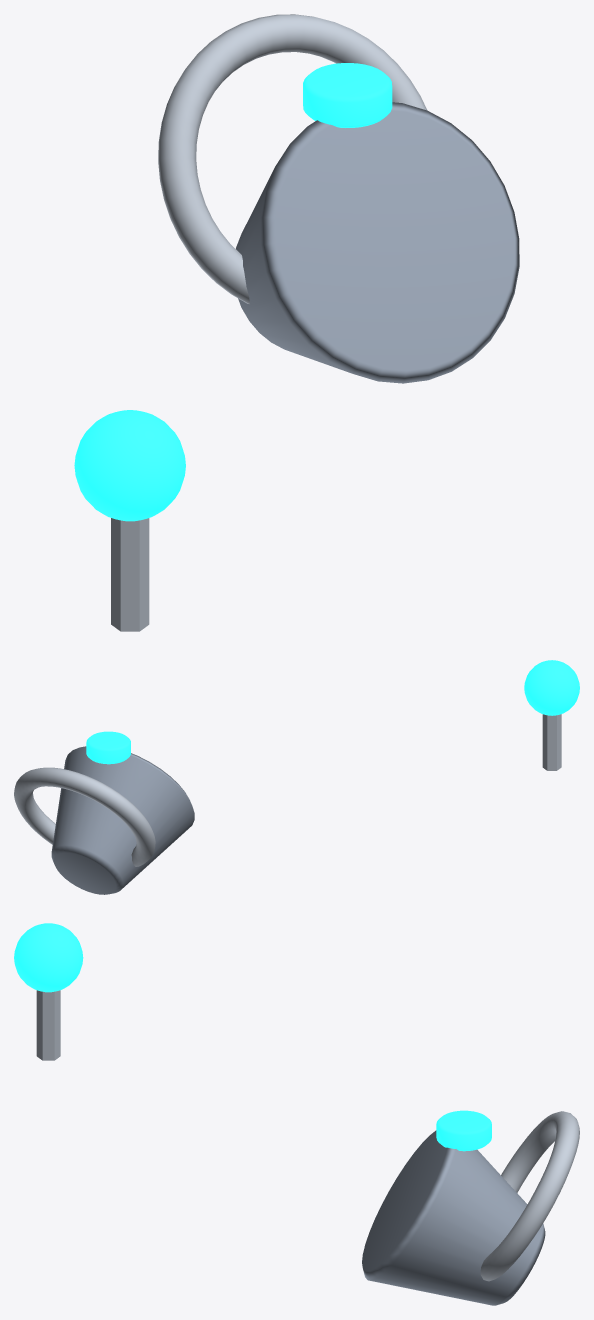
The model's file is tower_skywatch_range_s3.glb.
3 renders of one model, top to bottom at view 1: azimuth 30°, elevation 25°; view 2: azimuth 150°, elevation 25°; view 3: azimuth 270°, elevation 25°, orthographic. The views are drawn at different scales.
Parts seen in each view (by area): view 1: skywatch_feed_horn, skywatch_feed_horn_ring, skywatch_iff_lamp, skywatch_up_range_l3_stud, skywatch_iff_lamp_stalk; view 2: skywatch_feed_horn, skywatch_feed_horn_ring, skywatch_iff_lamp, skywatch_up_range_l3_stud, skywatch_iff_lamp_stalk; view 3: skywatch_feed_horn, skywatch_feed_horn_ring, skywatch_iff_lamp, skywatch_up_range_l3_stud, skywatch_iff_lamp_stalk.
Part boxes in pixels (bbox=[...]): skywatch_feed_horn: bbox=[236, 102, 519, 383]; skywatch_feed_horn_ring: bbox=[158, 14, 427, 303]; skywatch_iff_lamp: bbox=[74, 410, 185, 521]; skywatch_up_range_l3_stud: bbox=[303, 63, 392, 127]; skywatch_iff_lamp_stalk: bbox=[111, 518, 149, 631]; skywatch_feed_horn: bbox=[51, 746, 194, 894]; skywatch_feed_horn_ring: bbox=[14, 767, 155, 866]; skywatch_iff_lamp: bbox=[524, 660, 579, 715]; skywatch_up_range_l3_stud: bbox=[86, 731, 130, 764]; skywatch_iff_lamp_stalk: bbox=[542, 714, 561, 770]; skywatch_feed_horn: bbox=[362, 1130, 545, 1305]; skywatch_feed_horn_ring: bbox=[480, 1111, 579, 1281]; skywatch_iff_lamp: bbox=[14, 923, 83, 992]; skywatch_up_range_l3_stud: bbox=[436, 1110, 491, 1151]; skywatch_iff_lamp_stalk: bbox=[36, 990, 60, 1060].
Size of the model in its own units: 0.532 by 0.2308 by 0.572.
